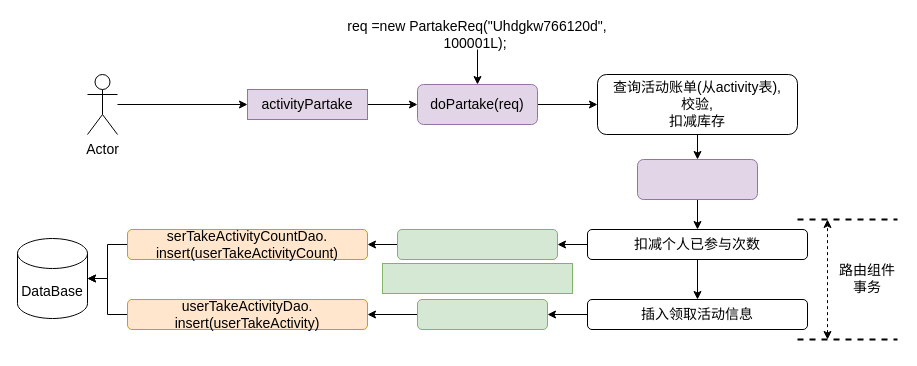
The diagram is 917 pixels wide and 366 high, and some of its shapes have lost their labels. The centre of each missing label's shape, as x and y in pixels:
"subtractionLeftCount(...)" goes at (x=477, y=244).
"takeActivity(...)" goes at (x=482, y=314).
"userTakeActivityRepository" goes at (x=477, y=278).
"用户领取活动 grabActivity()" goes at (x=697, y=179).
